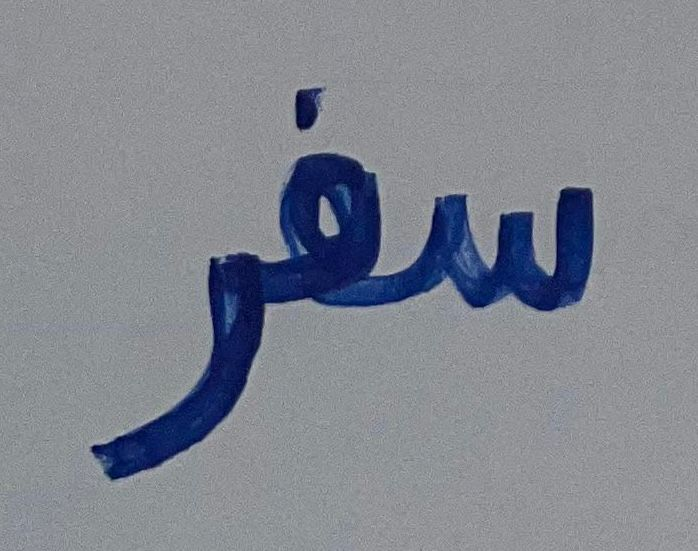reh: (75, 203, 266, 493)
seen: (403, 138, 623, 364)
teh_marbota: (270, 80, 398, 348)
